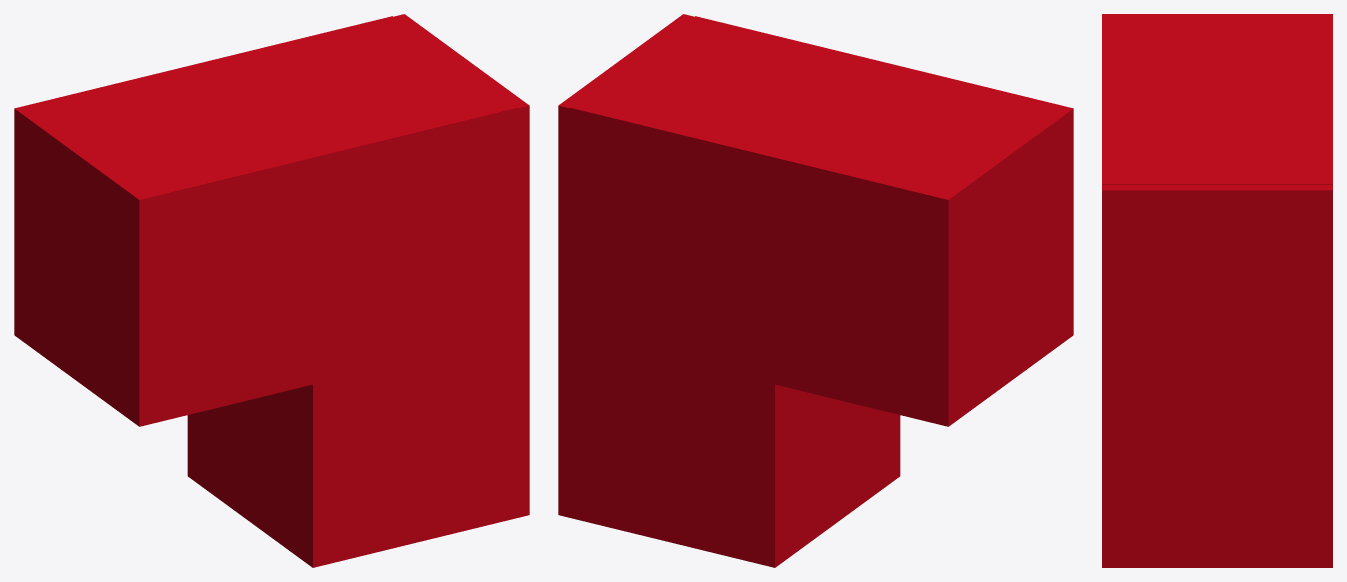
The model's file is UCX_vent_segm_curve.fbx.
The picture shows the model from 3 angles, left to right: view 1: azimuth 30°, elevation 25°; view 2: azimuth 150°, elevation 25°; view 3: azimuth 270°, elevation 25°; orthographic projection. The views are drawn at different scales.
Visible parts, largest first — view 1: UCX_vent_segm_curve; view 2: UCX_vent_segm_curve; view 3: UCX_vent_segm_curve.
Part boxes in pixels (<box>): UCX_vent_segm_curve: <box>14,14,529,567</box>; UCX_vent_segm_curve: <box>558,14,1073,567</box>; UCX_vent_segm_curve: <box>1102,14,1332,567</box>.
Bounding box in the file's own units: 0.5161 × 0.5184 × 0.2867.
